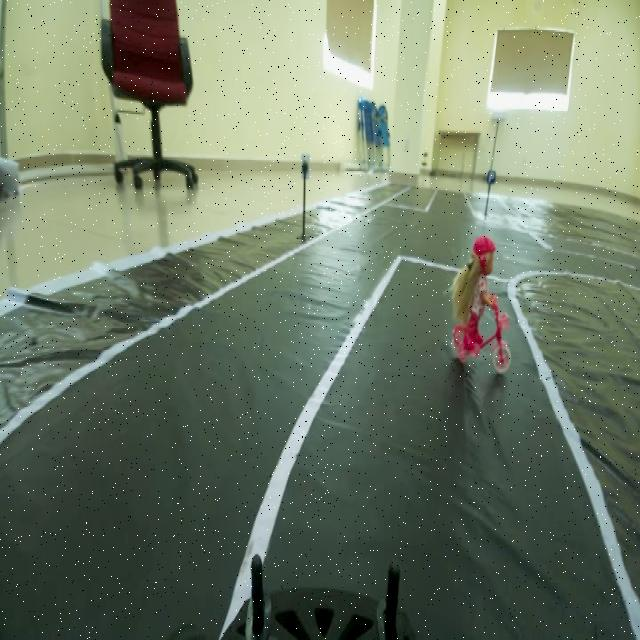pedestrian: (454, 233, 520, 374)
